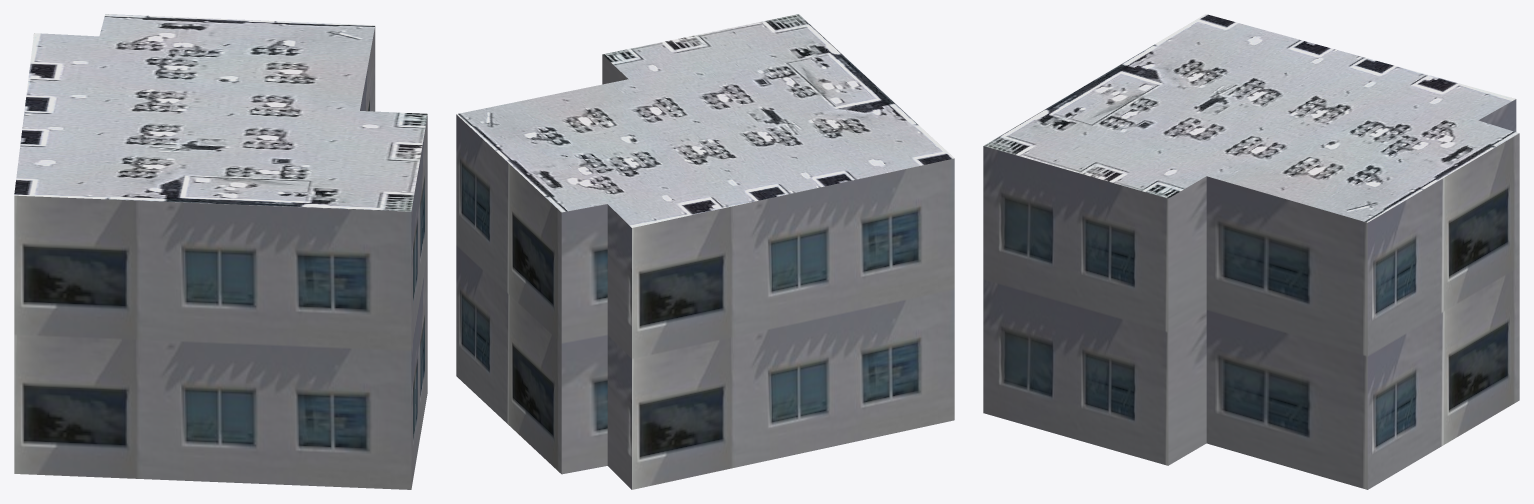
Rendered from ResTex__4124.fbx.
3 views of the same model, side by side, from view 1: azimuth 30°, elevation 25°; view 2: azimuth 150°, elevation 25°; view 3: azimuth 270°, elevation 25° (orthographic). The views are drawn at different scales.
Visible parts, largest first — view 1: CityEngineMaterial_10_m, CityEngineMaterial_2_m; view 2: CityEngineMaterial_10_m, CityEngineMaterial_2_m; view 3: CityEngineMaterial_10_m, CityEngineMaterial_2_m.
Part boxes in pixels (x1,y1,x2,y2): CityEngineMaterial_10_m: (14,26,427,489); CityEngineMaterial_2_m: (14,14,427,211); CityEngineMaterial_10_m: (456,55,954,489); CityEngineMaterial_2_m: (456,14,954,227); CityEngineMaterial_10_m: (983,99,1519,489); CityEngineMaterial_2_m: (984,14,1519,222).
Size of the model in its own units: 10.05 by 6 by 10.91.
Materials: 2 (2 with a texture image).
